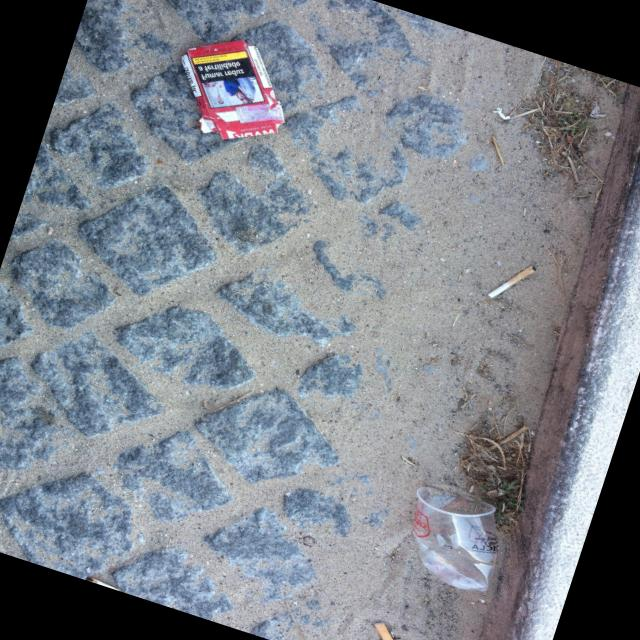less trash: (181, 40, 285, 139), (413, 487, 499, 591)
